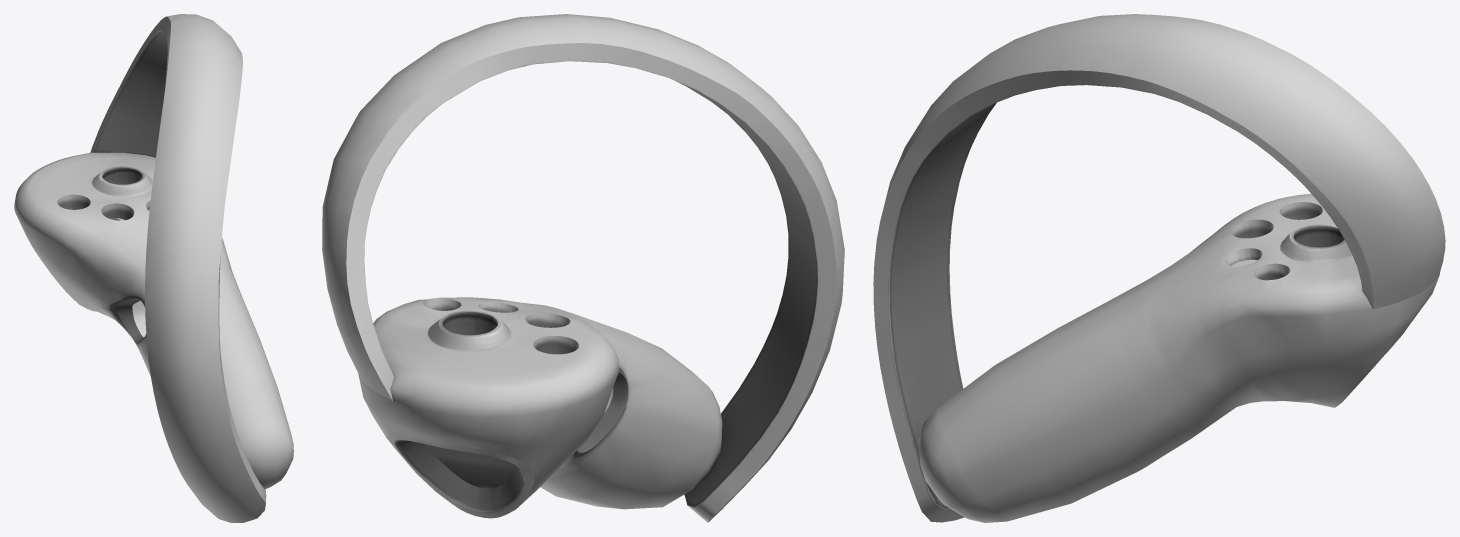
3 views of the same model, side by side, from view 1: azimuth 30°, elevation 25°; view 2: azimuth 150°, elevation 25°; view 3: azimuth 270°, elevation 25° (orthographic). The views are drawn at different scales.
Bounding box in the file's own units: 0.0744 × 0.1341 × 0.1315.
Materials: 1 (1 with a texture image).
